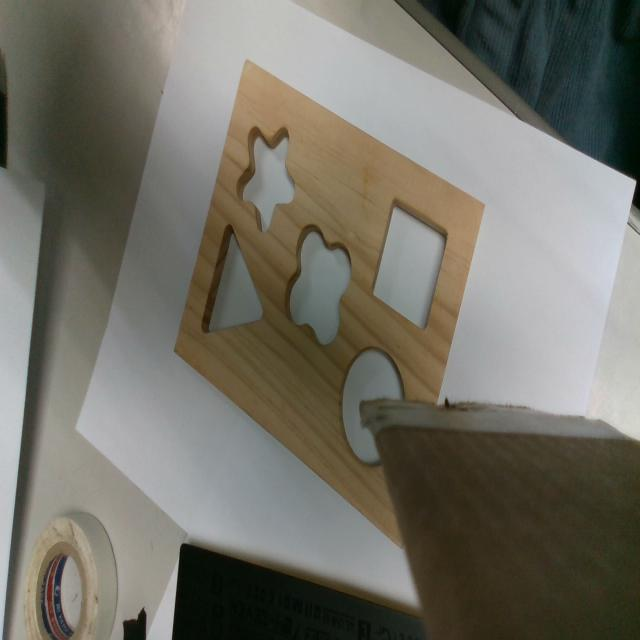circle: (339, 348, 406, 463)
flower: (285, 225, 351, 341)
square: (369, 198, 450, 332)
star: (236, 126, 298, 230)
triangle: (200, 221, 265, 334)
